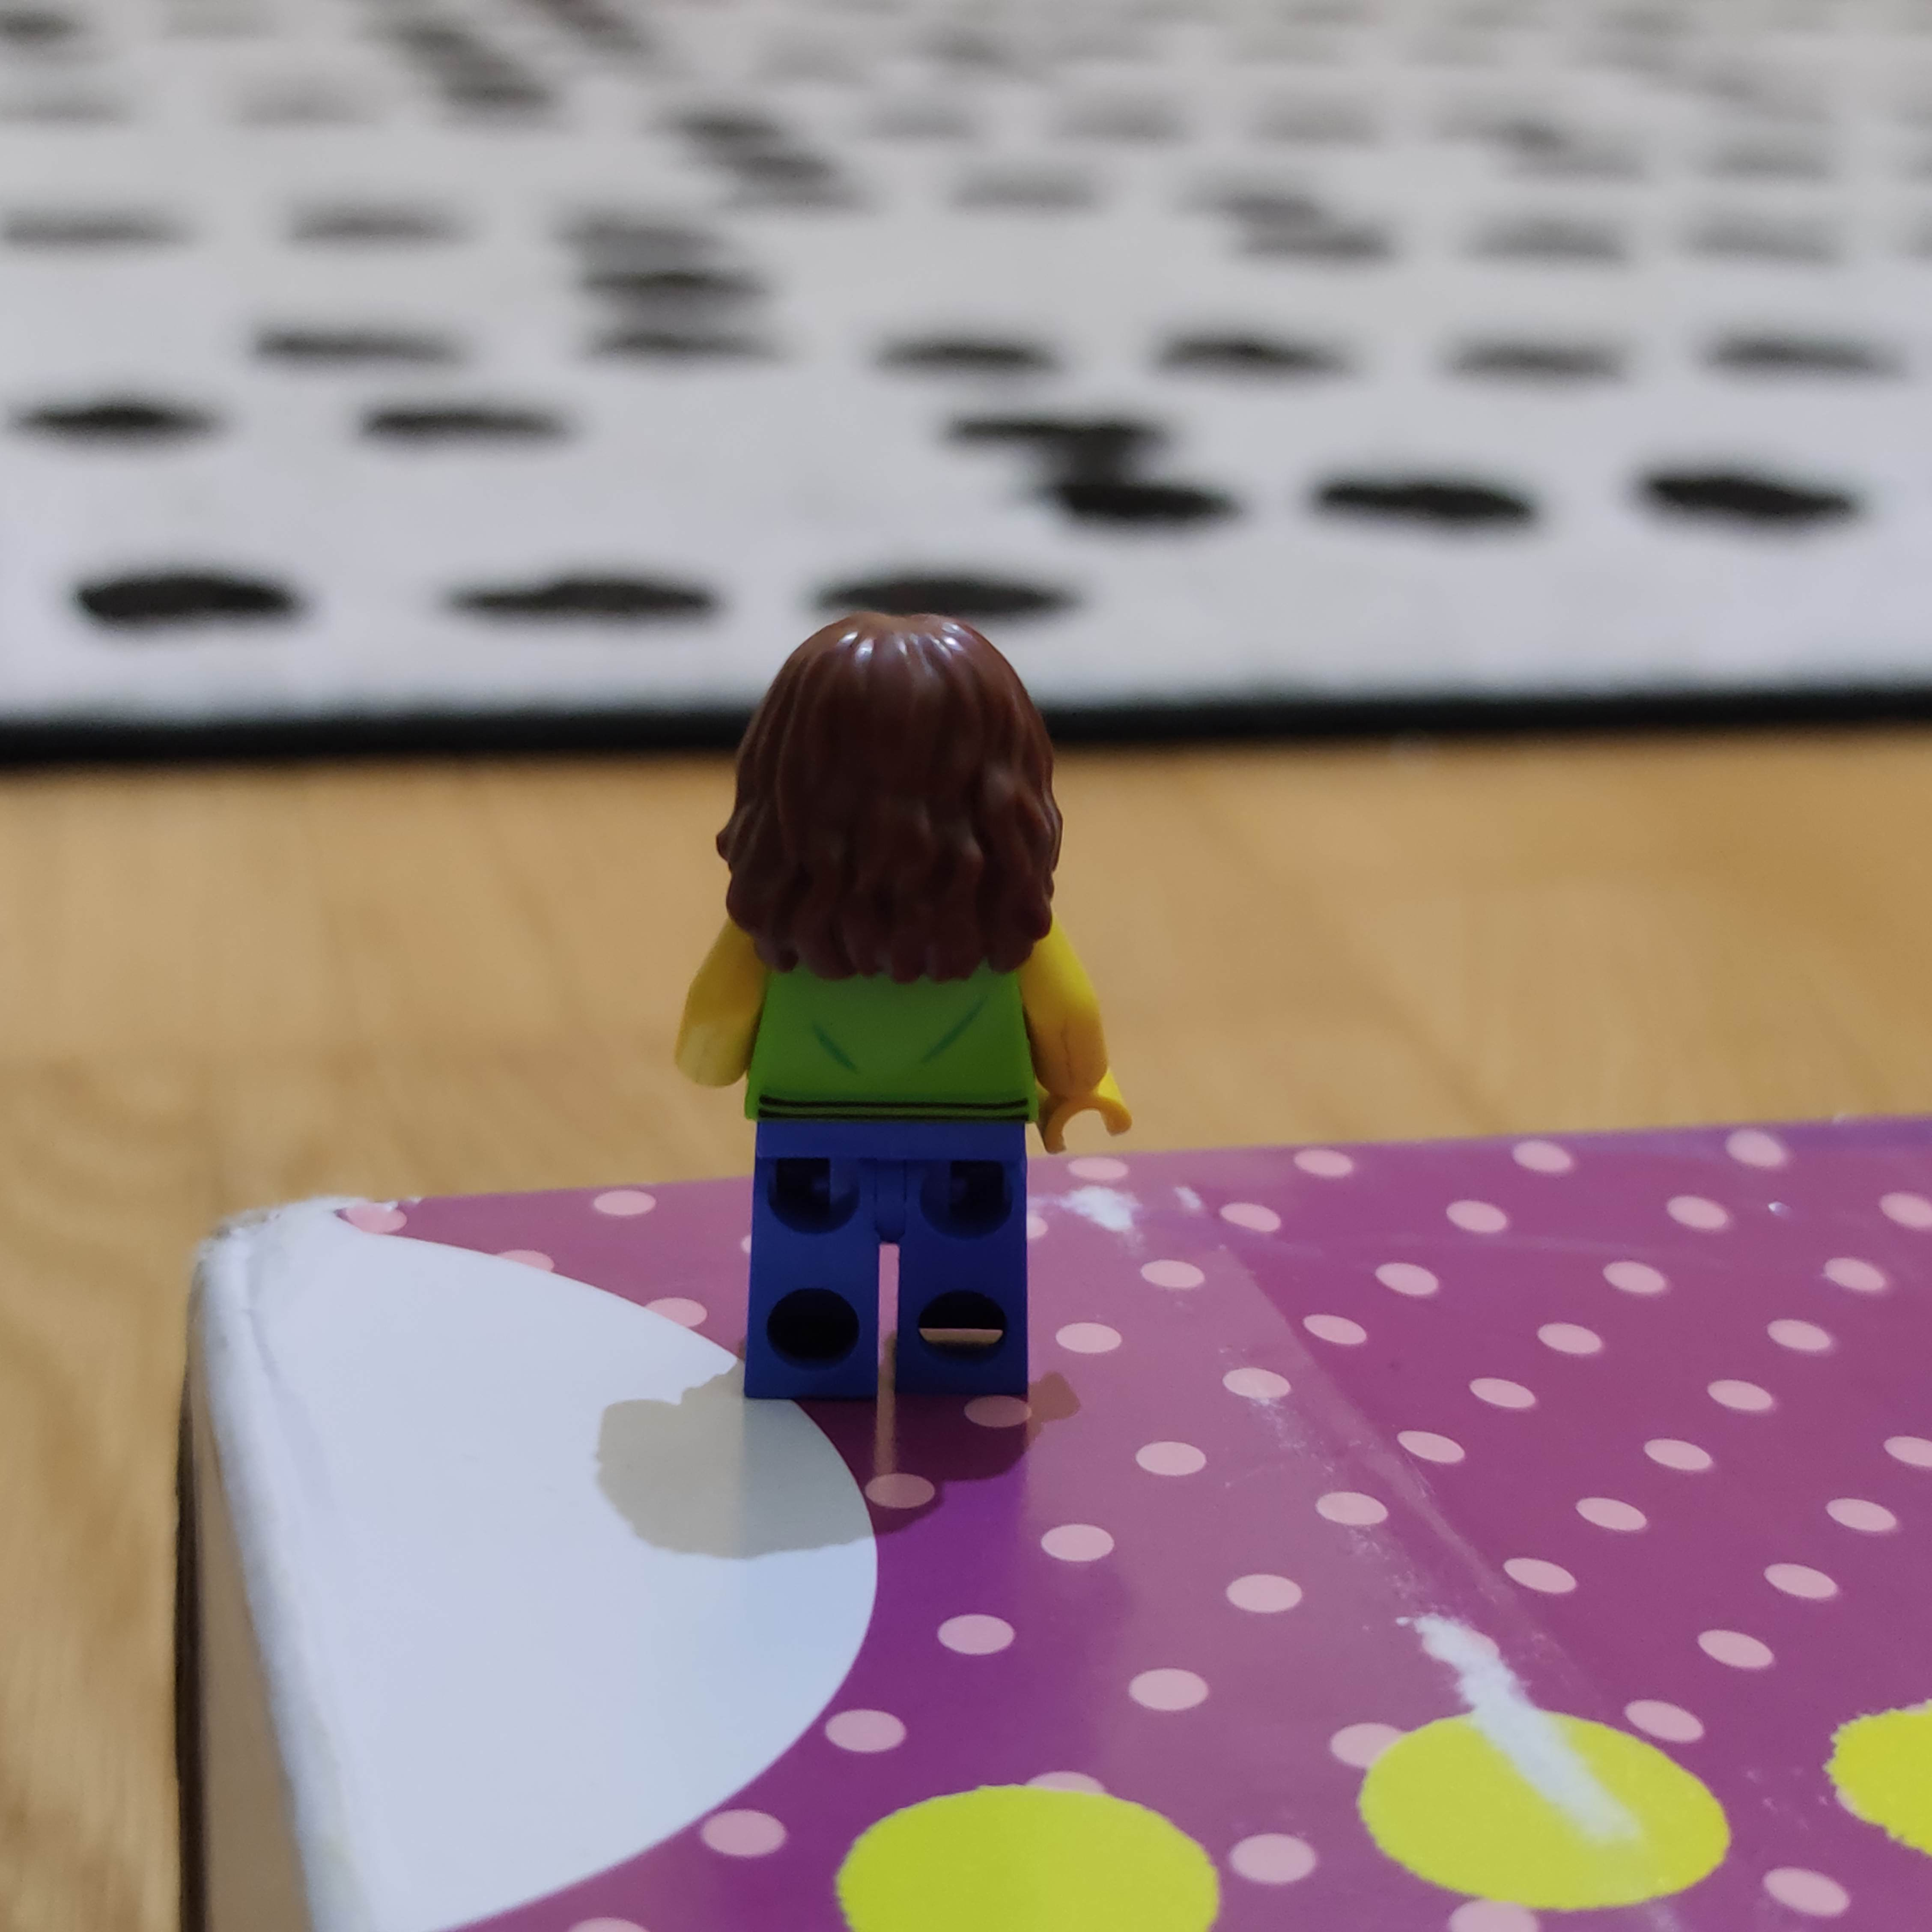lego: (683, 607, 1141, 1424)
